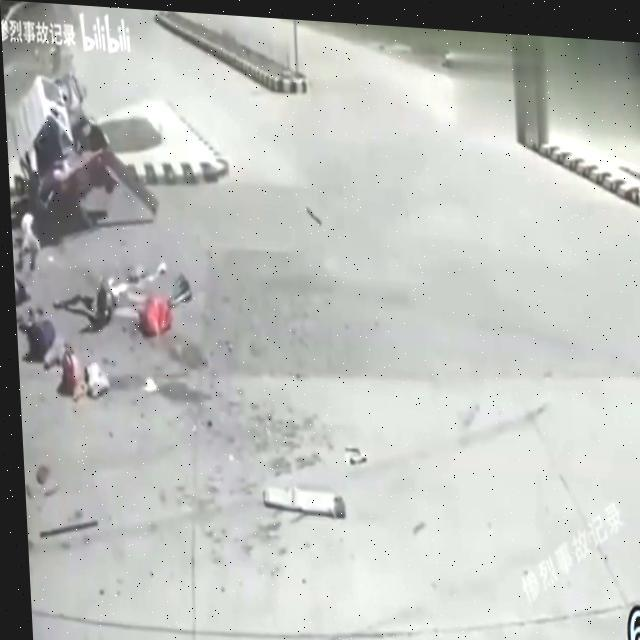multiple_accident: (0, 80, 182, 372)
